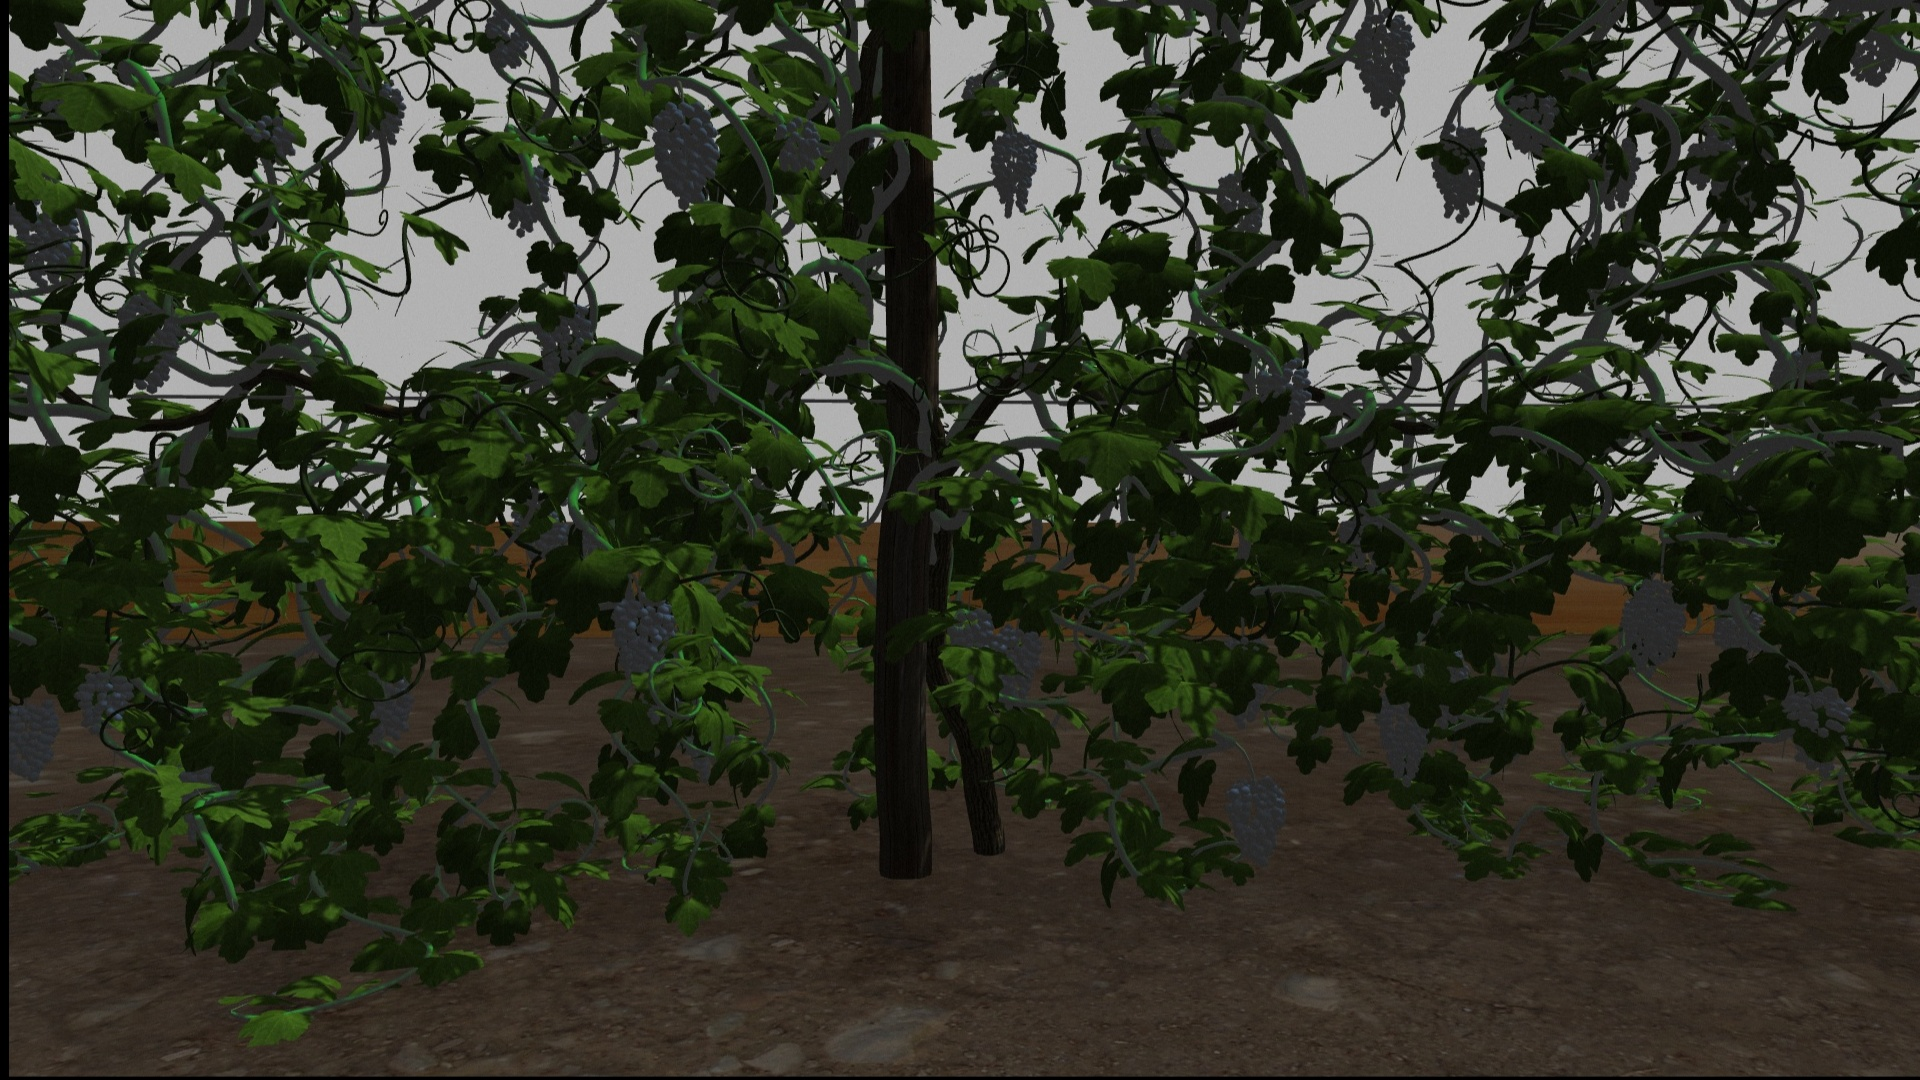grape: (650, 90, 723, 208), (1783, 683, 1850, 782), (1618, 579, 1685, 669), (119, 294, 179, 392), (1352, 13, 1410, 115), (1226, 775, 1282, 878), (609, 585, 670, 679), (1429, 127, 1486, 220), (74, 659, 131, 742), (24, 210, 80, 291), (533, 299, 593, 375), (1374, 698, 1425, 786), (989, 131, 1036, 222), (13, 695, 61, 783), (1254, 357, 1311, 429), (357, 675, 411, 748), (1497, 94, 1557, 156), (1847, 16, 1900, 86), (992, 626, 1038, 704), (1213, 170, 1265, 237), (1710, 604, 1764, 659), (484, 13, 530, 71), (244, 109, 295, 160), (775, 120, 823, 173), (945, 607, 996, 653)
